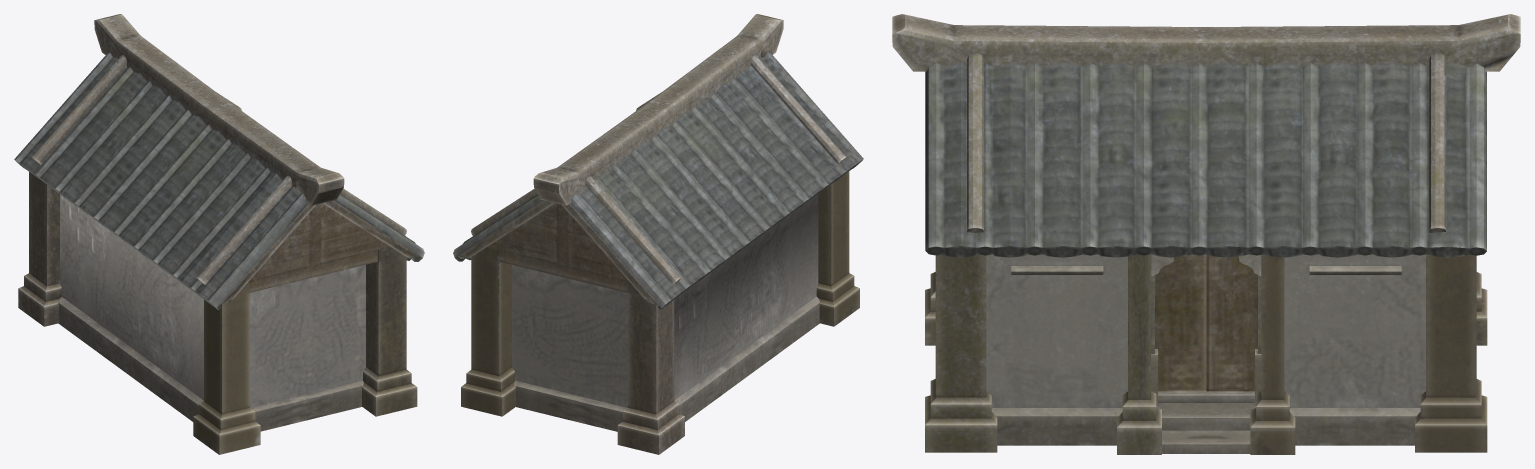
Rendered from house1.glb.
The picture shows the model from 3 angles, left to right: view 1: azimuth 30°, elevation 25°; view 2: azimuth 150°, elevation 25°; view 3: azimuth 270°, elevation 25°; orthographic projection. The views are drawn at different scales.
Parts seen in each view (by area): view 1: qiangbi.002; view 2: qiangbi.002; view 3: qiangbi.002.
Part boxes in pixels (bbox=[...]): qiangbi.002: bbox=[14, 14, 424, 454]; qiangbi.002: bbox=[453, 14, 863, 454]; qiangbi.002: bbox=[892, 14, 1520, 454].
Bounding box in the file's own units: 2.78 × 3.23 × 5.03.
Materials: 1 (1 with a texture image).
